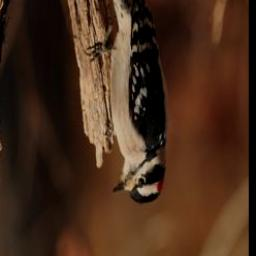Woodpecker: (84, 0, 168, 212)
